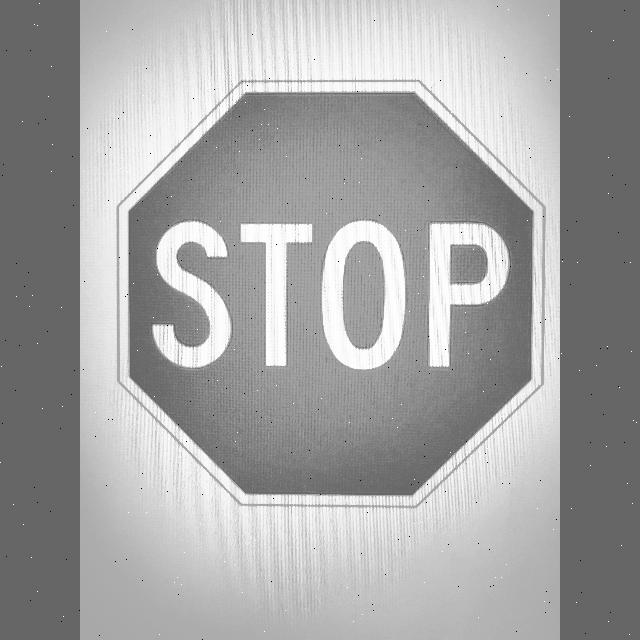STOP: (116, 80, 544, 480)
